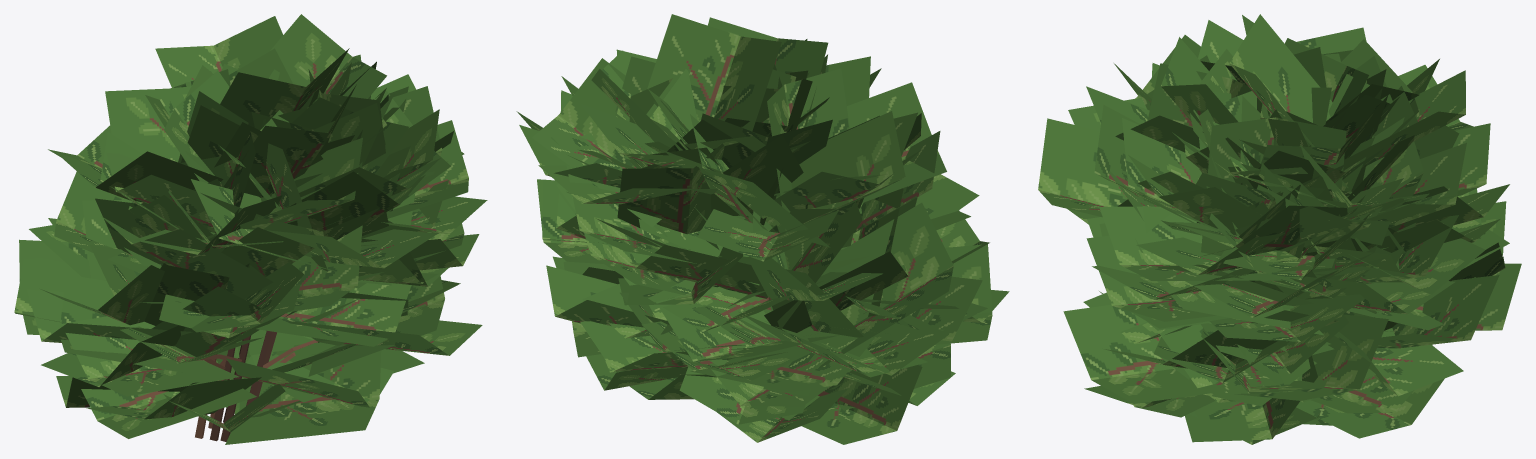
Rendered from leafy_bush4_v1.fbx.
3 views of the same model, side by side, from view 1: azimuth 30°, elevation 25°; view 2: azimuth 150°, elevation 25°; view 3: azimuth 270°, elevation 25° (orthographic). The views are drawn at different scales.
Visible parts, largest first — view 1: leafy_bush4_v1; view 2: leafy_bush4_v1; view 3: leafy_bush4_v1.
Boxes of the visible parts, bbox=[...] form: leafy_bush4_v1: bbox=[14, 14, 487, 444]; leafy_bush4_v1: bbox=[516, 14, 1009, 444]; leafy_bush4_v1: bbox=[1038, 14, 1521, 444].
Bounding box in the file's own units: 167 × 138 × 149.
